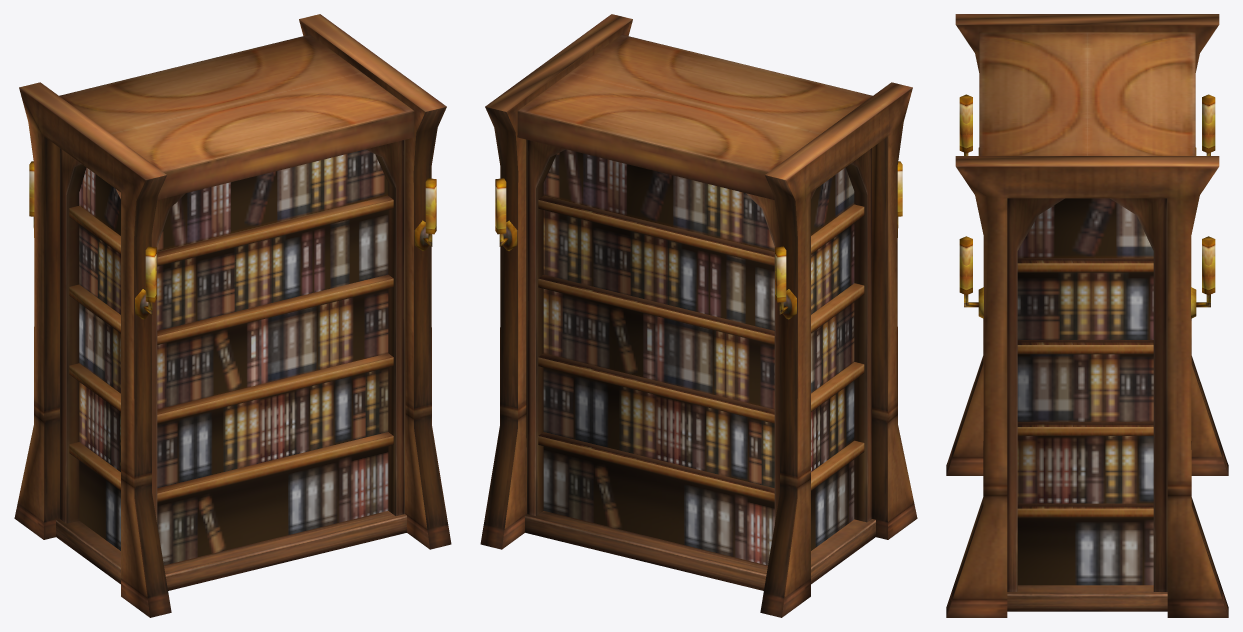
File: a_bookcase01.glb
3 views of the same model, side by side, from view 1: azimuth 30°, elevation 25°; view 2: azimuth 150°, elevation 25°; view 3: azimuth 270°, elevation 25° (orthographic). The views are drawn at different scales.
Visible parts, largest first — view 1: a_bookcase01; view 2: a_bookcase01; view 3: a_bookcase01.
Boxes of the visible parts, x1,y1,x2,y2 form: a_bookcase01: [14, 14, 451, 617]; a_bookcase01: [480, 14, 917, 617]; a_bookcase01: [946, 14, 1228, 617].
Bounding box in the file's own units: 2 × 2.76 × 1.56.
Materials: 2 (2 with a texture image).
